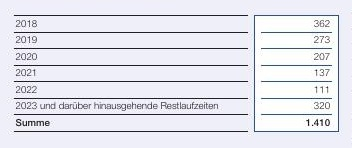table: (0, 0, 352, 148)
